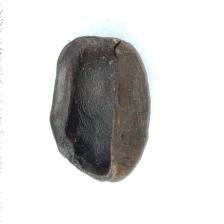NG: (53, 39, 124, 181)
